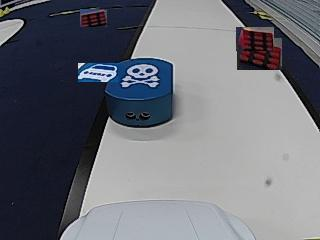danger: (121, 64, 158, 88)
